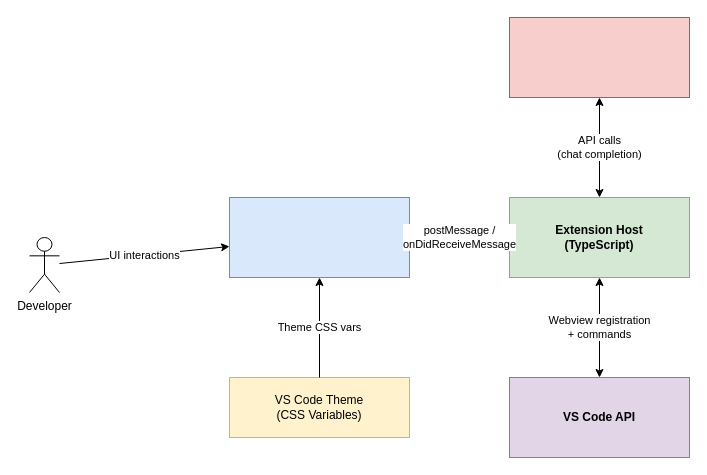
This 707x475 diagram has some shape labels left out. Here are the shapes that lost their labels. From the top down, the centre of each, then its label:
point 599,57: LLM Provider (Anthropic/OpenAI)
point 319,237: Chat Panel (Webview)
